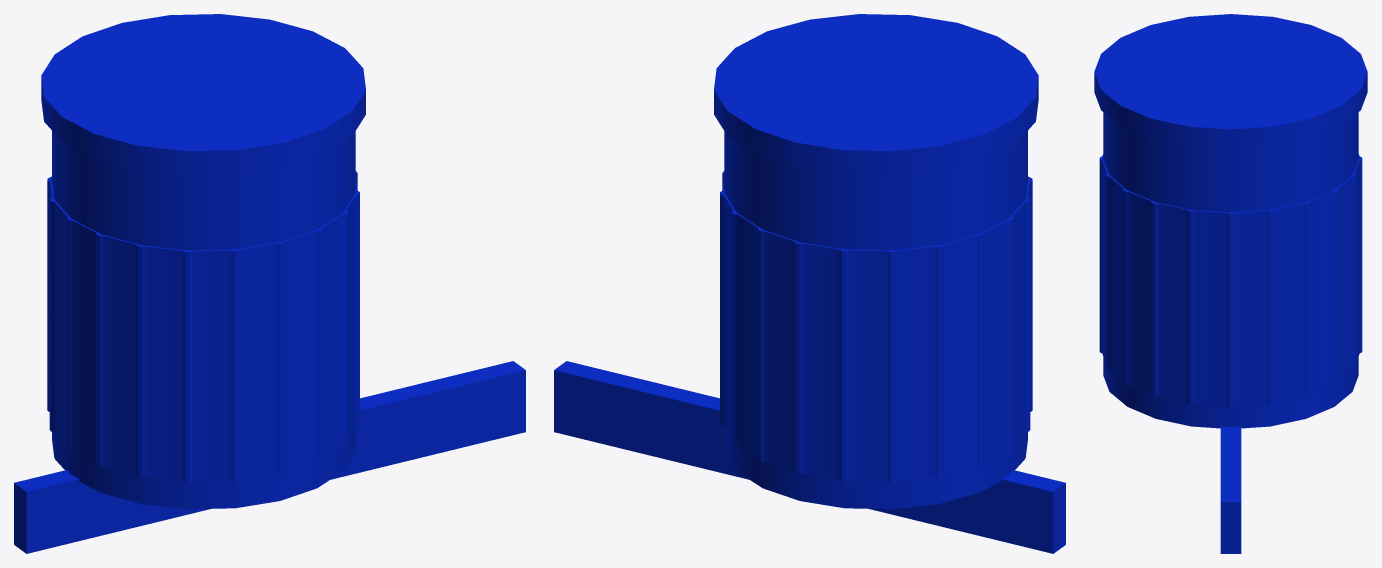
The model's file is Dentyuu_parts_20.fbx.
3 views of the same model, side by side, from view 1: azimuth 30°, elevation 25°; view 2: azimuth 150°, elevation 25°; view 3: azimuth 270°, elevation 25° (orthographic). The views are drawn at different scales.
Parts seen in each view (by area): view 1: Parts_1; view 2: Parts_1; view 3: Parts_1.
Part boxes in pixels (x1=…): Parts_1: x1=14, y1=14, x2=525, y2=553; Parts_1: x1=554, y1=14, x2=1065, y2=553; Parts_1: x1=1094, y1=14, x2=1367, y2=553.
Size of the model in its own units: 169 by 136 by 95.45.
